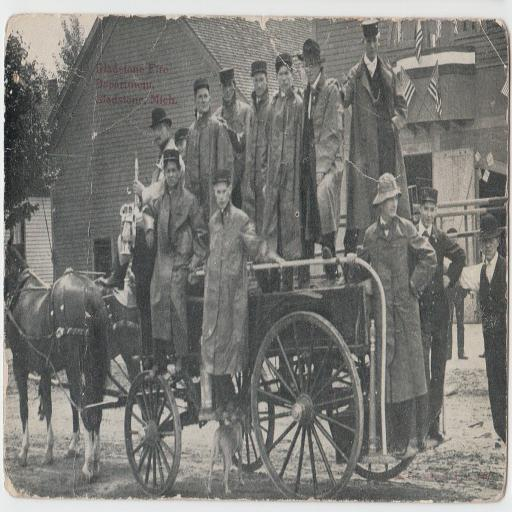Horse: (0, 232, 111, 480), (65, 268, 165, 474)
